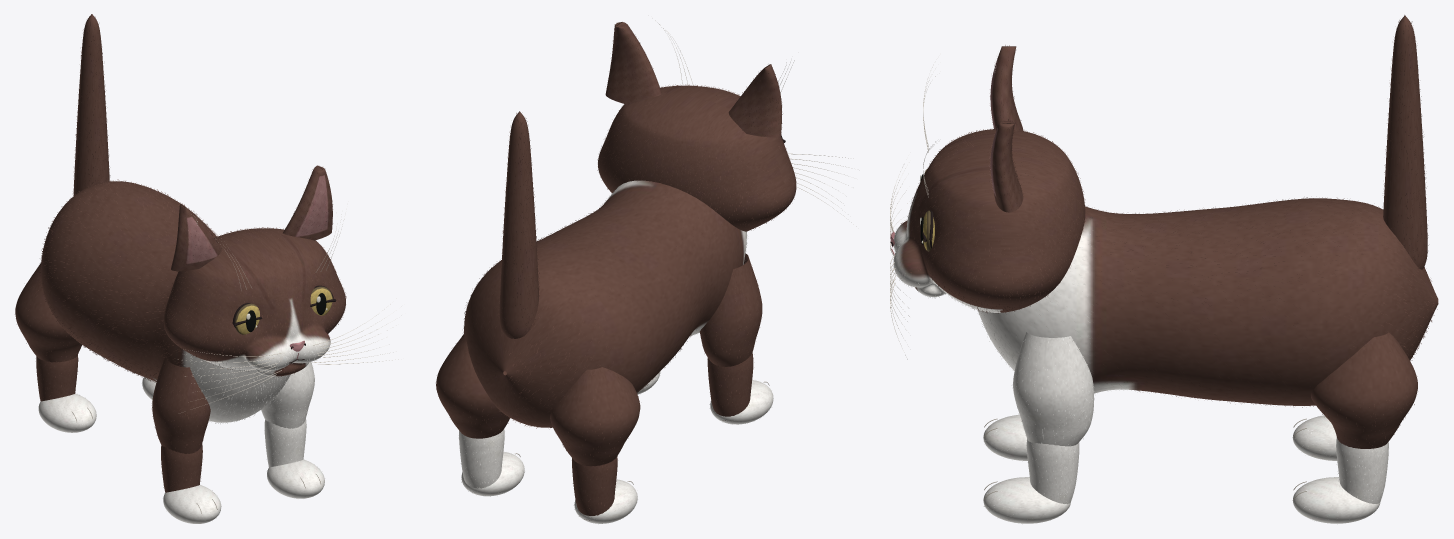
File: choco.glb
3 views of the same model, side by side, from view 1: azimuth 30°, elevation 25°; view 2: azimuth 150°, elevation 25°; view 3: azimuth 270°, elevation 25° (orthographic). The views are drawn at different scales.
Visible parts, largest first — view 1: Torso • shoulder, ribcage & haunch, Head • sculpted cheeks and eye sockets, Tail • tapered chocolate, Forearm, Muscular thigh, Ear • clipped left, Forearm.001, Ear • outward right, Torso • shoulder, ribcage & haunch • fur, Paw • white mitten.002, Paw • white mitten, Paw • white mitten.001 (+7 smaller); view 2: Torso • shoulder, ribcage & haunch, Head • sculpted cheeks and eye sockets, Tail • tapered chocolate, Muscular thigh, Forearm, Muscular thigh.001, Ear • clipped left, Ear • outward right, Lower leg • chocolate, Lower leg • long white sock.001, Lower leg • chocolate.001, Paw • white mitten (+5 smaller); view 3: Torso • shoulder, ribcage & haunch, Head • sculpted cheeks and eye sockets, Muscular thigh.001, Tail • tapered chocolate, Forearm.001, Lower leg • long white sock, Paw • white mitten.003, Paw • white mitten.001, Torso • shoulder, ribcage & haunch • fur, Lower leg • long white sock.001, Ear • clipped left, Ear • outward right (+4 smaller).
Part boxes in pixels (bbox=[...]): Torso • shoulder, ribcage & haunch: bbox=[40, 181, 290, 422]; Head • sculpted cheeks and eye sockets: bbox=[163, 228, 345, 376]; Tail • tapered chocolate: bbox=[73, 14, 109, 195]; Forearm: bbox=[152, 357, 210, 453]; Muscular thigh: bbox=[15, 263, 81, 362]; Ear • clipped left: bbox=[283, 165, 332, 240]; Forearm.001: bbox=[261, 362, 314, 428]; Ear • outward right: bbox=[171, 204, 221, 271]; Torso • shoulder, ribcage & haunch • fur: bbox=[39, 179, 291, 423]; Paw • white mitten.002: bbox=[38, 393, 96, 432]; Paw • white mitten: bbox=[163, 485, 221, 523]; Paw • white mitten.001: bbox=[267, 459, 324, 498]; Torso • shoulder, ribcage & haunch: bbox=[464, 180, 746, 427]; Head • sculpted cheeks and eye sockets: bbox=[598, 85, 796, 231]; Tail • tapered chocolate: bbox=[499, 111, 539, 338]; Muscular thigh: bbox=[550, 367, 640, 466]; Forearm: bbox=[699, 253, 762, 366]; Muscular thigh.001: bbox=[436, 334, 509, 438]; Ear • clipped left: bbox=[605, 22, 661, 104]; Ear • outward right: bbox=[728, 64, 781, 137]; Lower leg • chocolate: bbox=[707, 353, 753, 420]; Lower leg • long white sock.001: bbox=[459, 429, 504, 492]; Lower leg • chocolate.001: bbox=[572, 456, 617, 520]; Paw • white mitten: bbox=[710, 380, 773, 424]; Torso • shoulder, ribcage & haunch: bbox=[978, 198, 1438, 405]; Head • sculpted cheeks and eye sockets: bbox=[893, 129, 1085, 312]; Muscular thigh.001: bbox=[1311, 332, 1417, 448]; Tail • tapered chocolate: bbox=[1383, 15, 1427, 269]; Forearm.001: bbox=[1013, 332, 1094, 446]; Lower leg • long white sock: bbox=[1026, 439, 1079, 504]; Paw • white mitten.003: bbox=[1292, 477, 1380, 523]; Paw • white mitten.001: bbox=[983, 477, 1070, 523]; Torso • shoulder, ribcage & haunch • fur: bbox=[981, 197, 1437, 407]; Lower leg • long white sock.001: bbox=[1336, 437, 1388, 503]; Ear • clipped left: bbox=[990, 121, 1023, 212]; Ear • outward right: bbox=[990, 46, 1023, 131].
Bounding box in the file's own units: 1.08 × 1.72 × 1.81.
16 materials, 1 textured.
